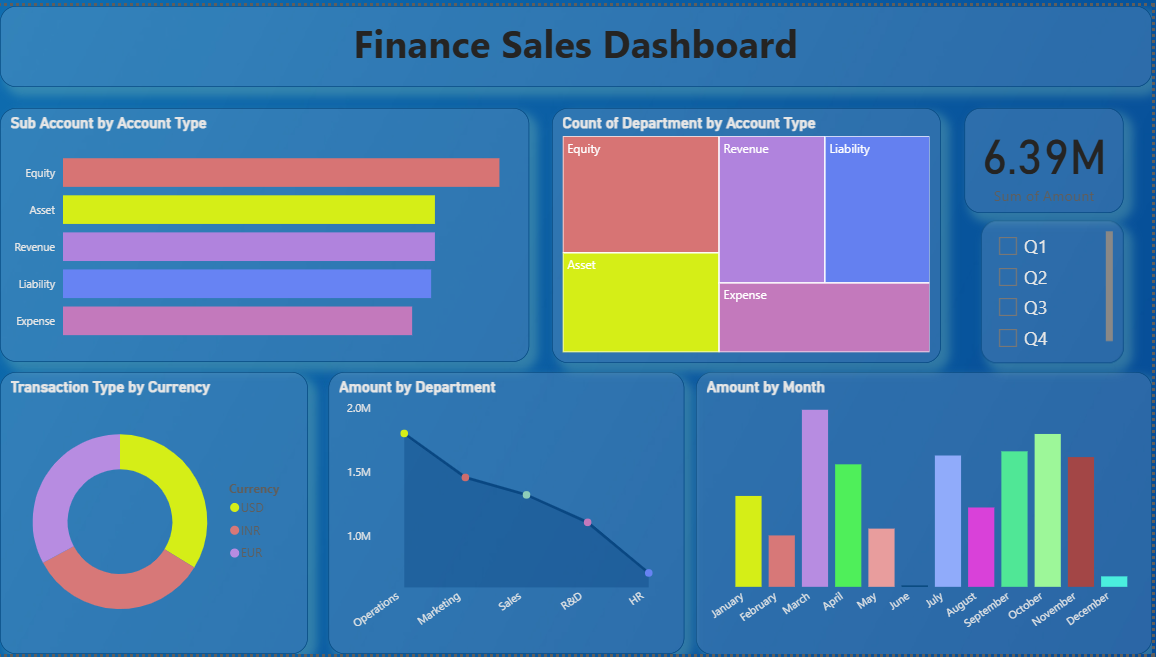

The dashboard page shown, as its layout file describes it:
{"tool":"powerbi","page":{"name":"Page 1","canvas":[1280,720],"ordinal":0},"visuals":[{"type":"columnChart","title":"Amount by Month","fields":{"Category":["Sheet1.Date.Variation.Date Hierarchy.Month"],"Y":["Sum(Sheet1.Amount)"]},"box":[772.9,406.3,506.5,313.7],"z":0},{"type":"clusteredBarChart","title":" Sub Account by Account Type","fields":{"Category":["Sheet1.Account_Type"],"Y":["CountNonNull(Sheet1.Sub_Account)"]},"box":[0,114,588,282],"z":1000},{"type":"donutChart","title":" Transaction Type by Currency","fields":{"Category":["Sheet1.Currency"],"Y":["CountNonNull(Sheet1.Transaction_Type)"]},"box":[0,406.3,342,302.4],"z":2000},{"type":"stackedAreaChart","title":"Amount by Department","fields":{"Category":["Sheet1.Department"],"Y":["Sum(Sheet1.Amount)"]},"box":[364.7,406.3,395,304.3],"z":3000},{"type":"treemap","title":"Count of Department by Account Type","fields":{"Group":["Sheet1.Account_Type"],"Values":["CountNonNull(Sheet1.Department)"]},"box":[621.7,113.4,404.4,283.5],"z":4000},{"type":"textbox","box":[0,13.2,1279.4,77.5],"z":5000},{"type":"slicer","fields":{"Values":["Sheet1.Quarter"]},"box":[1071.5,226.8,158.7,170.1],"z":6000},{"type":"card","fields":{"Values":["Sum(Sheet1.Amount)"]},"box":[1071.5,113.4,177.6,94.5],"z":7000}]}

Visuals, with their boxes in screenshot pixels (x1, y1, x2, y2), scaled from the page's 1280x720 canvas onto the 1156x657 screenshot:
"Amount by Month" columnChart: box=[698, 371, 1155, 656]
" Sub Account by Account Type" clusteredBarChart: box=[0, 104, 531, 361]
" Transaction Type by Currency" donutChart: box=[0, 371, 309, 647]
"Amount by Department" stackedAreaChart: box=[329, 371, 686, 648]
"Count of Department by Account Type" treemap: box=[561, 103, 927, 362]
textbox: box=[0, 12, 1155, 83]
slicer - Sheet1.Quarter: box=[968, 207, 1111, 362]
card - Sum(Sheet1.Amount): box=[968, 103, 1128, 190]
